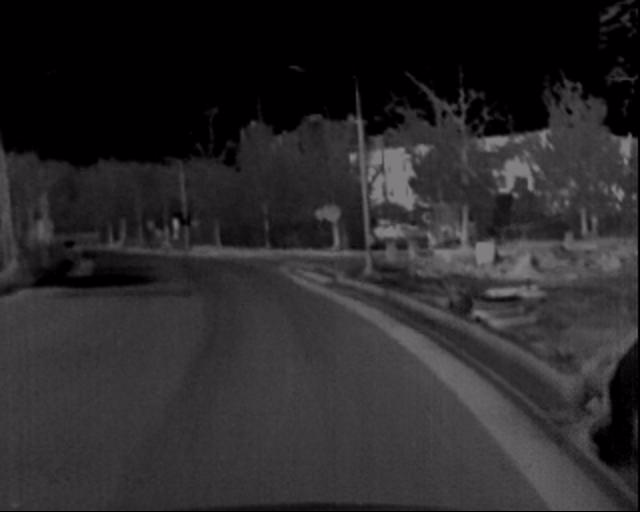person: (145, 228, 178, 266)
